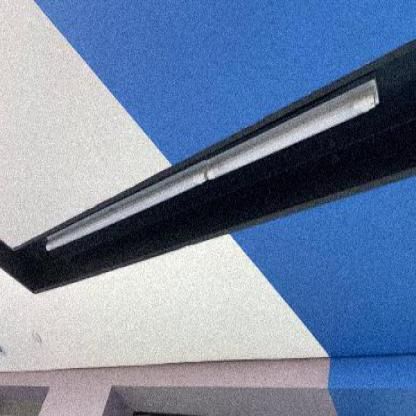light_off: (38, 47, 385, 264)
